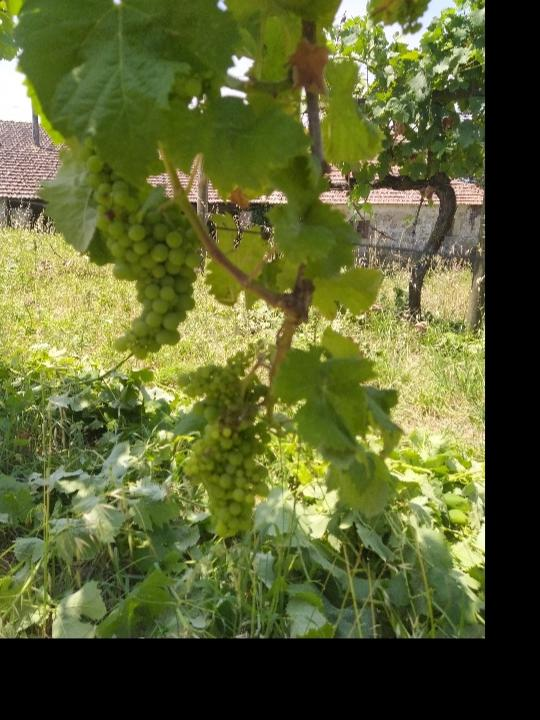grape: (92, 173, 203, 360), (179, 412, 277, 541)
